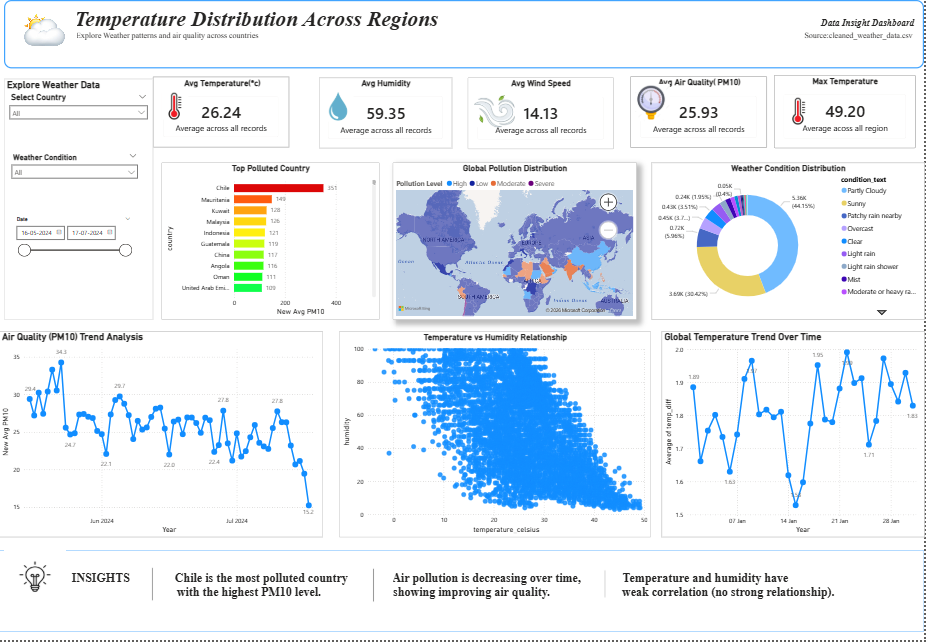

The page's visual inventory and layout, read from the dashboard file:
{"tool":"powerbi","page":{"name":"Page 1","canvas":[1850,1280],"ordinal":0},"visuals":[{"type":"filledMap","title":"Global Pollution Distribution","fields":{"Category":["Country Summary.country"],"Series":["Country Summary.Pollution Level"]},"box":[788,326,488,314],"z":0},{"type":"textbox","box":[10,0,1840,136.7],"z":1000},{"type":"scatterChart","title":"Temperature vs Humidity Relationship","fields":{"X":["cleaned_weather_data.temperature_celsius"],"Y":["cleaned_weather_data.humidity"]},"box":[680,662,624,412],"z":2000},{"type":"donutChart","title":"Weather Condition Distribution","fields":{"Category":["cleaned_weather_data.condition_text"],"Y":["CountNonNull(cleaned_weather_data.condition_text)"]},"box":[1304,326,546,314],"z":3000},{"type":"cardVisual","title":"Avg Temperature(*c)","fields":{"Data":["Avg(cleaned_weather_data.temperature_celsius)"]},"box":[308.3,153.3,273.3,143.3],"z":4000},{"type":"cardVisual","title":"Avg Air Quality( PM10)","fields":{"Data":["Avg(cleaned_weather_data.air_quality_pm10)"]},"box":[1261.7,151.7,273.3,143.3],"z":5000},{"type":"cardVisual","title":"Avg Wind Speed","fields":{"Data":["Avg(cleaned_weather_data.wind_kph)"]},"box":[938.3,155,291.7,143.3],"z":6000},{"type":"cardVisual","title":"Max Temperature","fields":{"Data":["Max(cleaned_weather_data.temperature_celsius)"]},"box":[1550,150,283.3,146.7],"z":7000},{"type":"clusteredBarChart","title":"Top Polluted Country","fields":{"Category":["Country Summary.country"],"Y":["cleaned_weather_data.New Avg PM10"]},"box":[326,326,436,314],"z":8000},{"type":"image","box":[21.7,13.3,133.3,86.7],"z":9000},{"type":"slicer","title":"Explore Weather Data","fields":{"Values":["cleaned_weather_data.country Hierarchy.country"]},"box":[10,158,298,482],"z":10000},{"type":"slicer","fields":{"Values":["cleaned_weather_data.last_updated"]},"box":[22,428,252,116],"z":11000},{"type":"slicer","fields":{"Values":["cleaned_weather_data.condition_text"]},"box":[16,300,272,94],"z":12000},{"type":"image","box":[325,158.3,53.3,110],"z":13000},{"type":"cardVisual","title":"Avg Humidity","fields":{"Data":["Avg(cleaned_weather_data.humidity)"]},"box":[640,155,266.7,141.7],"z":14000},{"type":"image","box":[648.3,168.3,61.7,90],"z":15000},{"type":"image","box":[950,178.3,81.7,90],"z":16000},{"type":"image","box":[1261.7,168.3,83.3,75],"z":17000},{"type":"image","box":[1573.3,188.3,53.3,70],"z":18000},{"type":"lineChart","title":"Air Quality (PM10) Trend Analysis","fields":{"Category":["cleaned_weather_data.last_updated.Variation.Date Hierarchy.Year","cleaned_weather_data.last_updated.Variation.Date Hierarchy.Month","cleaned_weather_data.last_updated.Variation.Date Hierarchy.Day"],"Y":["cleaned_weather_data.New Avg PM10"]},"box":[0,662,648,412],"z":19000},{"type":"lineChart","title":"Global Temperature Trend Over Time","fields":{"Category":["cleaned_weather_data.last_updated.Variation.Date Hierarchy.Year","cleaned_weather_data.last_updated.Variation.Date Hierarchy.Day"],"Y":["Avg(cleaned_weather_data.temp_diff)"]},"box":[1324,662,526,412],"z":20000},{"type":"textbox","box":[0,1100,1850,164],"z":21000},{"type":"image","box":[10,1100,124,106],"z":22000},{"type":"image","box":[268,1088,78,162],"z":23000},{"type":"image","box":[710,1108,78,126],"z":24000},{"type":"image","box":[1180,1106,64,126],"z":24001}]}

Visuals, with their boxes in screenshot pixels (x1, y1, x2, y2), scaled from the page's 1850x1280 canvas onto the 929x643 screenshot:
"Global Pollution Distribution" filledMap: [x1=396, y1=164, x2=641, y2=322]
textbox: [x1=5, y1=0, x2=928, y2=69]
"Temperature vs Humidity Relationship" scatterChart: [x1=341, y1=333, x2=655, y2=540]
"Weather Condition Distribution" donutChart: [x1=655, y1=164, x2=928, y2=322]
"Avg Temperature(*c)" cardVisual: [x1=155, y1=77, x2=292, y2=149]
"Avg Air Quality( PM10)" cardVisual: [x1=634, y1=76, x2=771, y2=148]
"Avg Wind Speed" cardVisual: [x1=471, y1=78, x2=618, y2=150]
"Max Temperature" cardVisual: [x1=778, y1=75, x2=921, y2=149]
"Top Polluted Country" clusteredBarChart: [x1=164, y1=164, x2=383, y2=322]
image: [x1=11, y1=7, x2=78, y2=50]
"Explore Weather Data" slicer: [x1=5, y1=79, x2=155, y2=322]
slicer - cleaned_weather_data.last_updated: [x1=11, y1=215, x2=138, y2=273]
slicer - cleaned_weather_data.condition_text: [x1=8, y1=151, x2=145, y2=198]
image: [x1=163, y1=80, x2=190, y2=135]
"Avg Humidity" cardVisual: [x1=321, y1=78, x2=455, y2=149]
image: [x1=326, y1=85, x2=357, y2=130]
image: [x1=477, y1=90, x2=518, y2=135]
image: [x1=634, y1=85, x2=675, y2=122]
image: [x1=790, y1=95, x2=817, y2=130]
"Air Quality (PM10) Trend Analysis" lineChart: [x1=0, y1=333, x2=325, y2=540]
"Global Temperature Trend Over Time" lineChart: [x1=665, y1=333, x2=928, y2=540]
textbox: [x1=0, y1=553, x2=928, y2=635]
image: [x1=5, y1=553, x2=67, y2=606]
image: [x1=135, y1=547, x2=174, y2=628]
image: [x1=357, y1=557, x2=396, y2=620]
image: [x1=593, y1=556, x2=625, y2=619]
